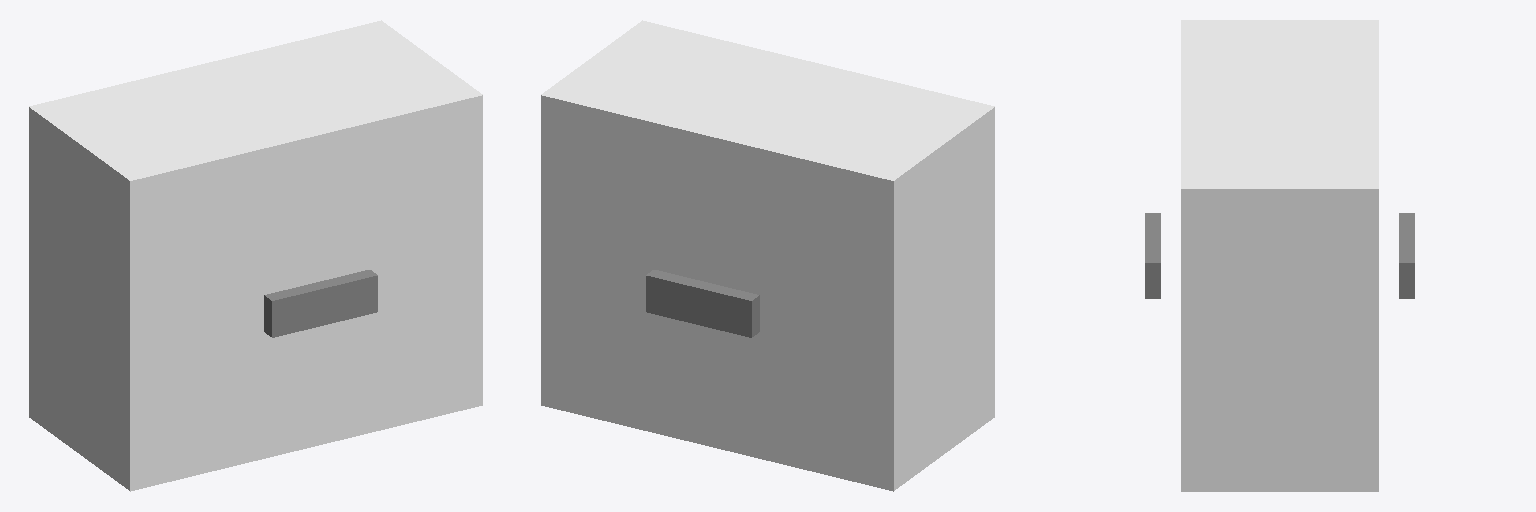
URDF robot description (cargo_bag):
<?xml version="1.0"?>

<!-- Rigid version of the cargo bag -->

<!-- All dimensions match the original deformable cargo bag (50 x 42 x 25 cm) -->
<!-- We connect the handle and the main compartment with a few "dummy" links/joints -->
<!--   to mimic how the deformable handle should behave -->
<!-- Three revolute joints allows us to mimic a ball joint while allowing us to set limits -->
<!--   on the motion for certain axes, and add friction -->

<!-- NOTE: to edit this file, ensure the following: -->
<!-- 1) Update the visual and collision dimensions together -->
<!-- 2) All dummy links should have the same properties (like inertia) -->
<!-- 3) If updating the mass, also update the inertia! However, in general, we should load this -->
<!--    into pybullet NOT using the USE_INERTIA_FROM_FILE flag since these values might be wrong -->

<!-- TODO: decide if there should be a prismatic link as well -->

<robot name="cargo_bag">
    <link name="main_compartment_link">
        <self_collide>false</self_collide>
        <visual name="main_compartment_visual">
            <origin rpy="0 0 0" xyz="0 0 0"/>
            <geometry>
                <box size="0.50 0.25 0.42"/>
            </geometry>
            <material name="bag_material">
                <!-- White -->
                <color rgba="1 1 1 1"/>
            </material>
        </visual>
        <!-- Split the collision body into 3 parts to allow for collision-free space around the handle -->
        <collision name="center_collision">
            <origin rpy="0 0 0" xyz="0 0 0"/>
            <geometry>
                <box size="0.20 0.13 0.42"/>
            </geometry>
        </collision>
        <collision name="left_collision">
            <origin rpy="0 0 0" xyz="-0.175 0 0"/>
            <geometry>
                <box size="0.15 0.25 0.42"/>
            </geometry>
        </collision>
        <collision name="right_collision">
            <origin rpy="0 0 0" xyz="0.175 0 0"/>
            <geometry>
                <box size="0.15 0.25 0.42"/>
            </geometry>
        </collision>
        <inertial>
            <origin rpy="0 0 0" xyz="0 0 0"/>
            <!-- Set the mass so that the whole bag has a total mass of 5kg -->
            <mass value="4.885"/>
            <inertia ixx="0.09725221" ixy="0" ixz="0" iyy="0.17358033" iyz="0" izz="0.12721354"/>
        </inertial>
    </link>

    <!-- First handle information -->

    <link name="handle_link">
        <self_collide>false</self_collide>
        <visual name="handle_visual">
            <origin rpy="0 0 0" xyz="0 0 0"/>
            <geometry>
                <box size="0.02 0.05 0.15"/>
            </geometry>
            <material name="handle_material">
                <!-- Gray -->
                <color rgba="0.6 0.6 0.6 1"/>
            </material>
        </visual>
        <collision name="handle_collision">
            <origin rpy="0 0 0" xyz="0 0 0"/>
            <geometry>
                <box size="0.02 0.05 0.05"/>
            </geometry>
        </collision>
        <inertial>
            <origin rpy="0 0 0" xyz="0 0 0"/>
            <mass value="0.1"/>
            <inertia ixx="2.08333e-4" ixy="0" ixz="0" iyy="1.90833e-4" iyz="0" izz="2.41667e-5"/>
        </inertial>
    </link>

    <joint name="pitch_joint" type="revolute">
        <parent link="main_compartment_link"/>
        <child link="pitch_link"/>
        <axis xyz="0 1 0" />
        <!-- Origin specifies the ball joint location -->
        <origin rpy="0 0 0" xyz="0 -0.125 0"/>
        <limit effort="1.0" lower="-1.57079" upper="1.57079" velocity="1.0"/>
    </joint>

    <link name="pitch_link">
        <!-- Small dummy mass/inertia values so this link is not ignored -->
        <inertial>
            <mass value="0.005" />
            <inertia ixx="5.0e-5" ixy="0" ixz="0" iyy="5.0e-5" iyz="0" izz="5.0e-5" />
        </inertial>
    </link>

    <joint name="yaw_joint" type="revolute">
        <parent link="pitch_link"/>
        <child link="yaw_link"/>
        <axis xyz="0 0 1" />
        <limit effort="1.0" lower="-1.57079" upper="1.57079" velocity="1.0"/>
    </joint>

    <link name="yaw_link">
        <!-- Small dummy mass/inertia values so this link is not ignored -->
        <inertial>
            <mass value="0.005" />
            <inertia ixx="5.0e-5" ixy="0" ixz="0" iyy="5.0e-5" iyz="0" izz="5.0e-5" />
        </inertial>
    </link>

    <joint name="roll_joint" type="revolute">
        <parent link="yaw_link"/>
        <child link="roll_link"/>
        <axis xyz="1 0 0" />
        <limit effort="1.0" lower="-1.57079" upper="1.57079" velocity="1.0"/>
    </joint>

    <link name="roll_link">
        <!-- Small dummy mass/inertia values so this link is not ignored -->
        <inertial>
            <mass value="0.005" />
            <inertia ixx="5.0e-5" ixy="0" ixz="0" iyy="5.0e-5" iyz="0" izz="5.0e-5" />
        </inertial>
    </link>

    <joint name="handle_joint" type="fixed">
        <!-- Origin specifies the handle's offset from ball joint location -->
        <!-- Orientation dictates how the Astrobee grasps the handle -->
        <origin rpy="1.57079 0 -1.57079" xyz="0 -0.035 0" />
        <parent link="roll_link"/>
        <child link="handle_link"/>
    </joint>

    <!-- Second handle information -->

    <link name="handle_link_2">
        <self_collide>false</self_collide>
        <visual name="handle_visual_2">
            <origin rpy="0 0 0" xyz="0 0 0"/>
            <geometry>
                <box size="0.02 0.05 0.15"/>
            </geometry>
            <material name="handle_material">
                <!-- Gray -->
                <color rgba="0.6 0.6 0.6 1"/>
            </material>
        </visual>
        <collision name="handle_collision_2">
            <origin rpy="0 0 0" xyz="0 0 0"/>
            <geometry>
                <box size="0.02 0.05 0.05"/>
            </geometry>
        </collision>
        <inertial>
            <origin rpy="0 0 0" xyz="0 0 0"/>
            <mass value="0.1"/>
            <inertia ixx="2.08333e-4" ixy="0" ixz="0" iyy="1.90833e-4" iyz="0" izz="2.41667e-5"/>
        </inertial>
    </link>

    <joint name="pitch_joint_2" type="revolute">
        <parent link="main_compartment_link"/>
        <child link="pitch_link_2"/>
        <axis xyz="0 1 0" />
        <!-- Origin specifies the ball joint location -->
        <origin rpy="0 0 0" xyz="0 0.125 0"/>
        <limit effort="1.0" lower="-1.57079" upper="1.57079" velocity="1.0"/>
    </joint>

    <link name="pitch_link_2">
        <!-- Small dummy mass/inertia values so this link is not ignored -->
        <inertial>
            <mass value="0.005" />
            <inertia ixx="5.0e-5" ixy="0" ixz="0" iyy="5.0e-5" iyz="0" izz="5.0e-5" />
        </inertial>
    </link>

    <joint name="yaw_joint_2" type="revolute">
        <parent link="pitch_link_2"/>
        <child link="yaw_link_2"/>
        <axis xyz="0 0 1" />
        <limit effort="1.0" lower="-1.57079" upper="1.57079" velocity="1.0"/>
    </joint>

    <link name="yaw_link_2">
        <!-- Small dummy mass/inertia values so this link is not ignored -->
        <inertial>
            <mass value="0.005" />
            <inertia ixx="5.0e-5" ixy="0" ixz="0" iyy="5.0e-5" iyz="0" izz="5.0e-5" />
        </inertial>
    </link>

    <joint name="roll_joint_2" type="revolute">
        <parent link="yaw_link_2"/>
        <child link="roll_link_2"/>
        <axis xyz="1 0 0" />
        <limit effort="1.0" lower="-1.57079" upper="1.57079" velocity="1.0"/>
    </joint>

    <link name="roll_link_2">
        <!-- Small dummy mass/inertia values so this link is not ignored -->
        <inertial>
            <mass value="0.005" />
            <inertia ixx="5.0e-5" ixy="0" ixz="0" iyy="5.0e-5" iyz="0" izz="5.0e-5" />
        </inertial>
    </link>

    <joint name="handle_joint_2" type="fixed">
        <!-- Origin specifies the handle's offset from ball joint location -->
        <!-- Orientation dictates how the Astrobee grasps the handle -->
        <origin rpy="-1.57079 0 1.57079" xyz="0 0.035 0" />
        <parent link="roll_link_2"/>
        <child link="handle_link_2"/>
    </joint>


</robot>

--- Render facts (derived) ---
3 views of the same robot in one strip: view 1: azimuth 30°, elevation 25°; view 2: azimuth 150°, elevation 25°; view 3: azimuth 270°, elevation 25° (orthographic).
Robot: cargo_bag — 9 links, 8 joints (6 revolute, 2 fixed); root link main_compartment_link; default pose: every joint at zero.
Visible links, largest first — view 1: main_compartment_link, handle_link; view 2: main_compartment_link, handle_link_2; view 3: main_compartment_link, handle_link, handle_link_2.
Link boxes in pixels (x1,y1,x2,y2): main_compartment_link: (29,20,482,491); handle_link: (264,270,377,337); main_compartment_link: (541,20,994,491); handle_link_2: (646,270,759,337); main_compartment_link: (1181,20,1378,491); handle_link: (1145,213,1160,298); handle_link_2: (1399,213,1414,298).
Size in the robot's own frame: 0.5 by 0.34 by 0.42 metres.
Geometry: primitives only (box / cylinder / sphere), no mesh files.